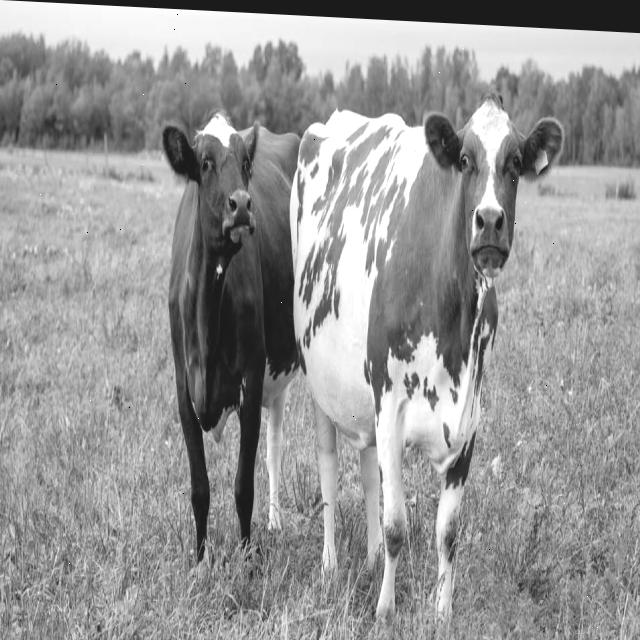Cow: (288, 73, 564, 640)
